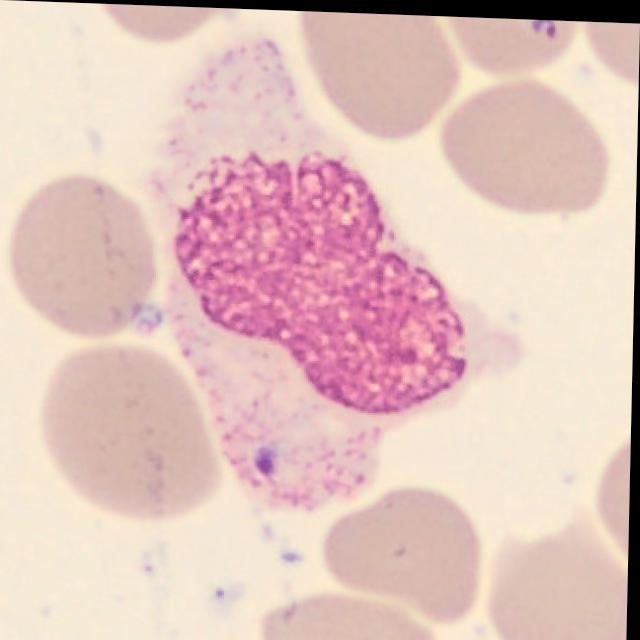Monocito: (157, 43, 514, 509)
